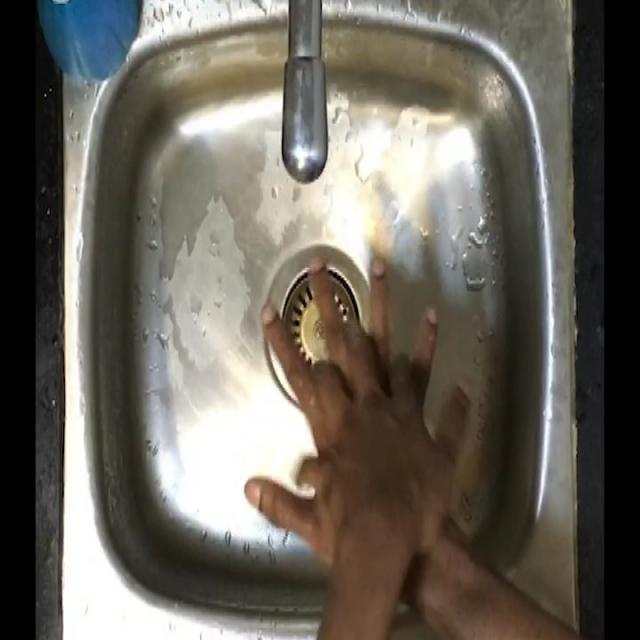step_2: (242, 246, 473, 542)
